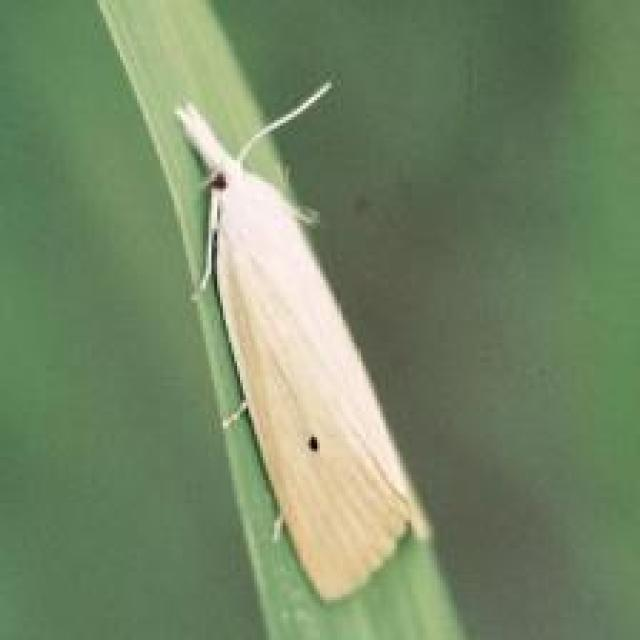yellow-stem-borer: (129, 75, 486, 616)
